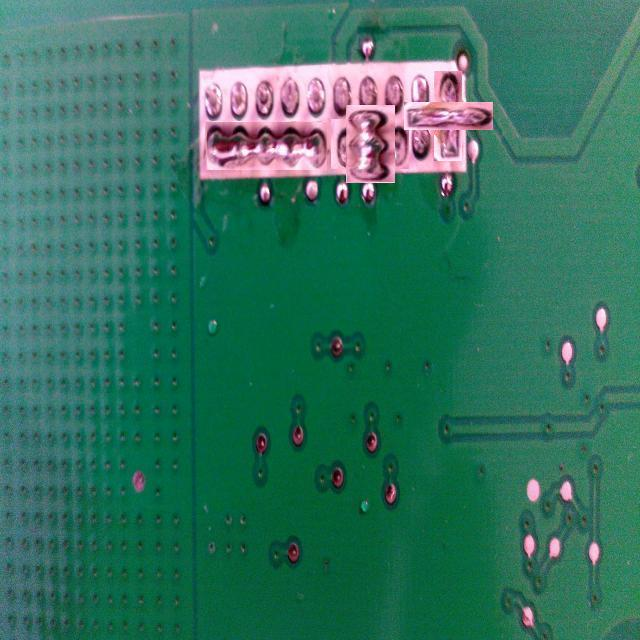Short_circuit: (205, 121, 328, 170), (338, 112, 402, 176), (419, 86, 477, 146)
